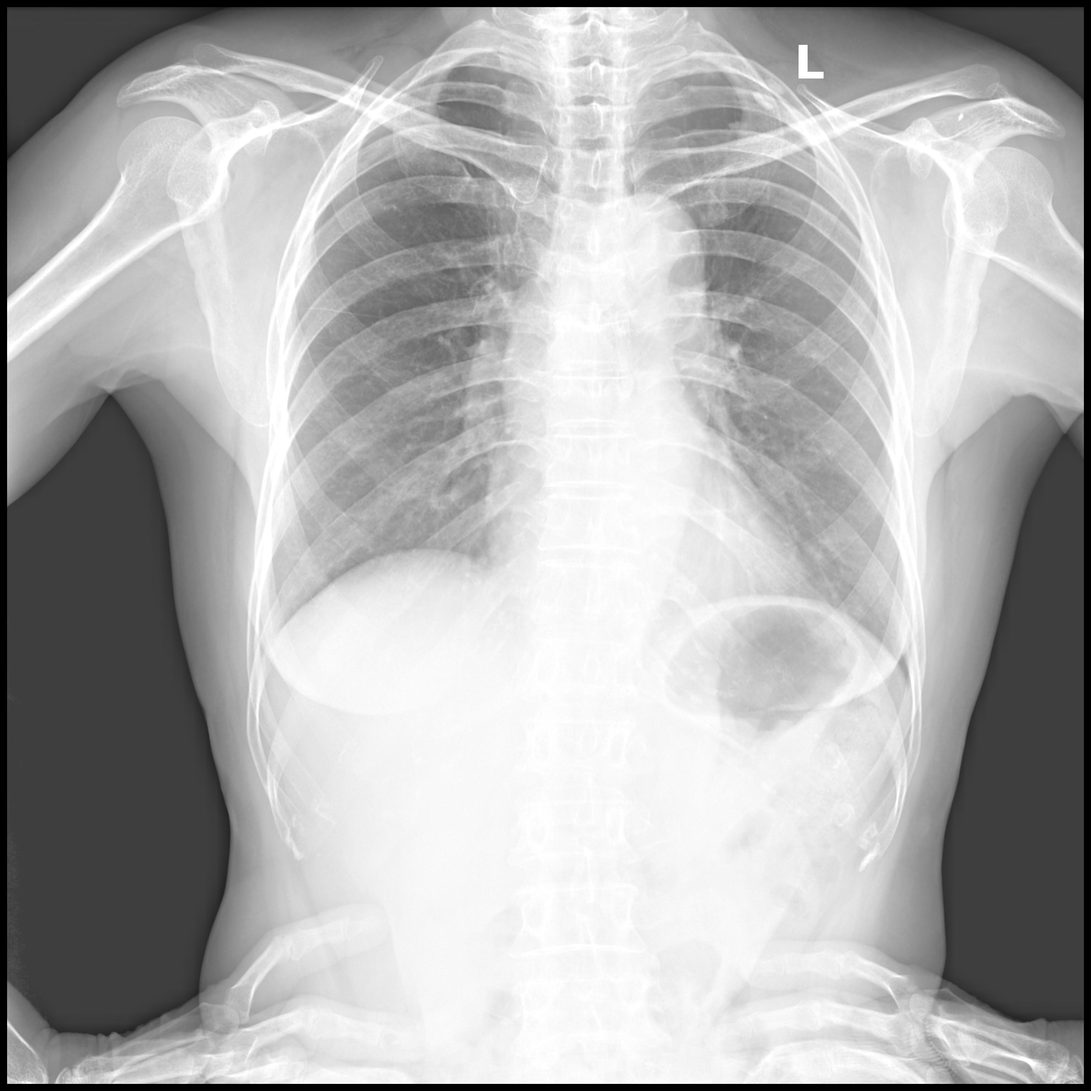Aortic enlargement: (589, 192, 716, 337)
